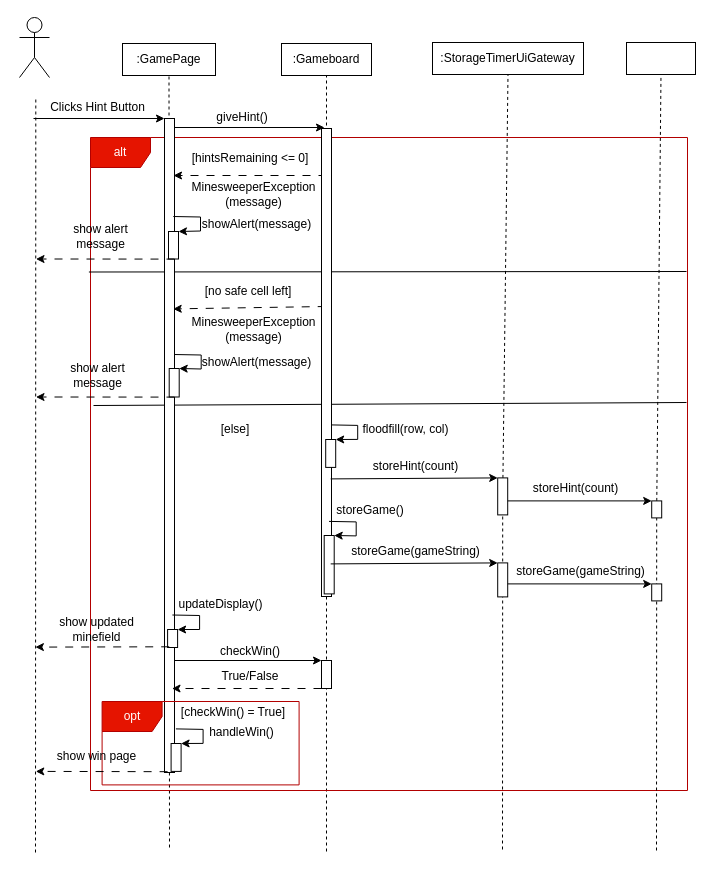
Image size: 713x871. Some labels were removed from this diagram. Here are the shapes that lost their labels. From the top down, the centre of each, then its label:
the point at 34,47: Player
the point at 661,58: :Storage
